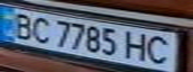5: (100, 26, 124, 57)
7: (66, 20, 87, 51), (51, 18, 72, 48)
8: (81, 24, 103, 54)
B: (6, 10, 39, 39)
C: (142, 34, 178, 65), (27, 15, 54, 45)
H: (121, 29, 154, 62)
